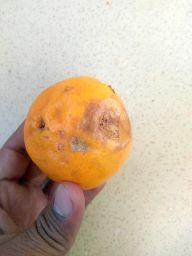Unripe: (23, 77, 133, 188)
